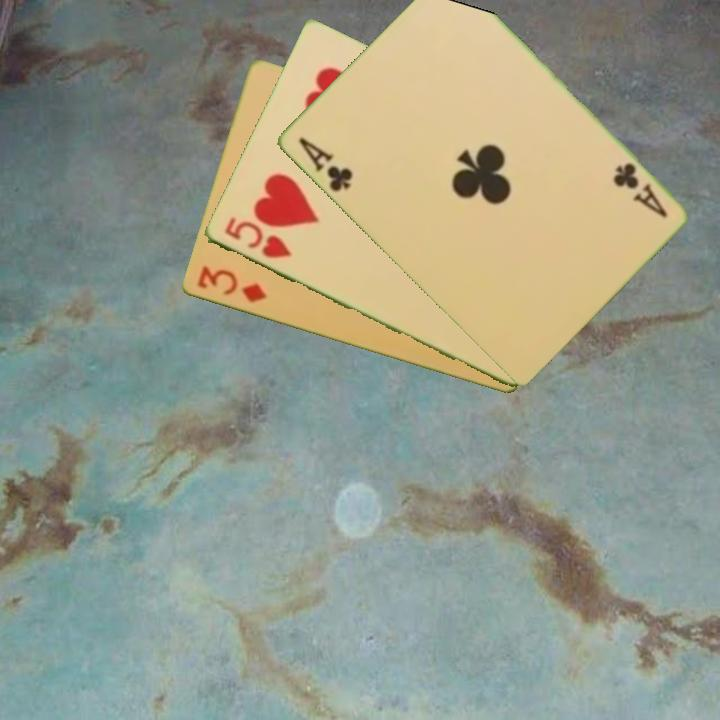3d: (193, 262, 269, 306)
5h: (220, 213, 295, 262)
Ac: (294, 133, 355, 195), (609, 159, 670, 221)
